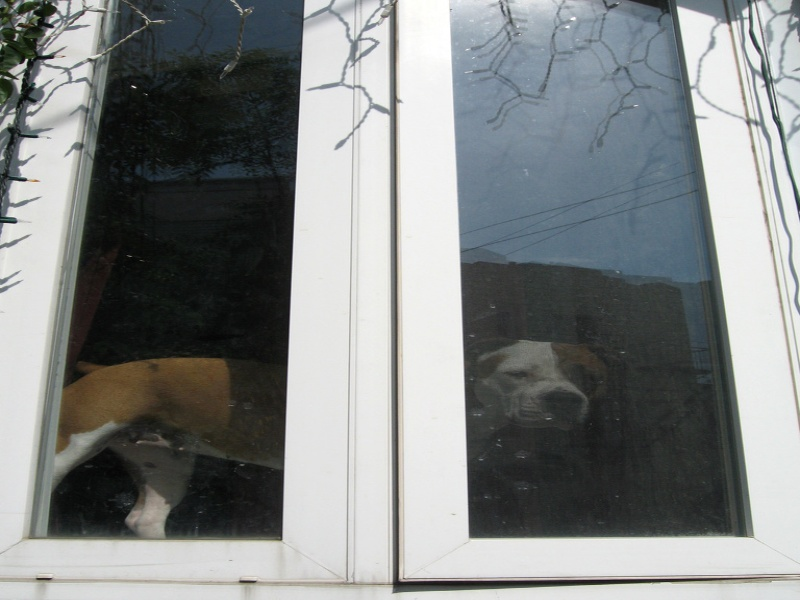dog: (43, 330, 614, 543)
